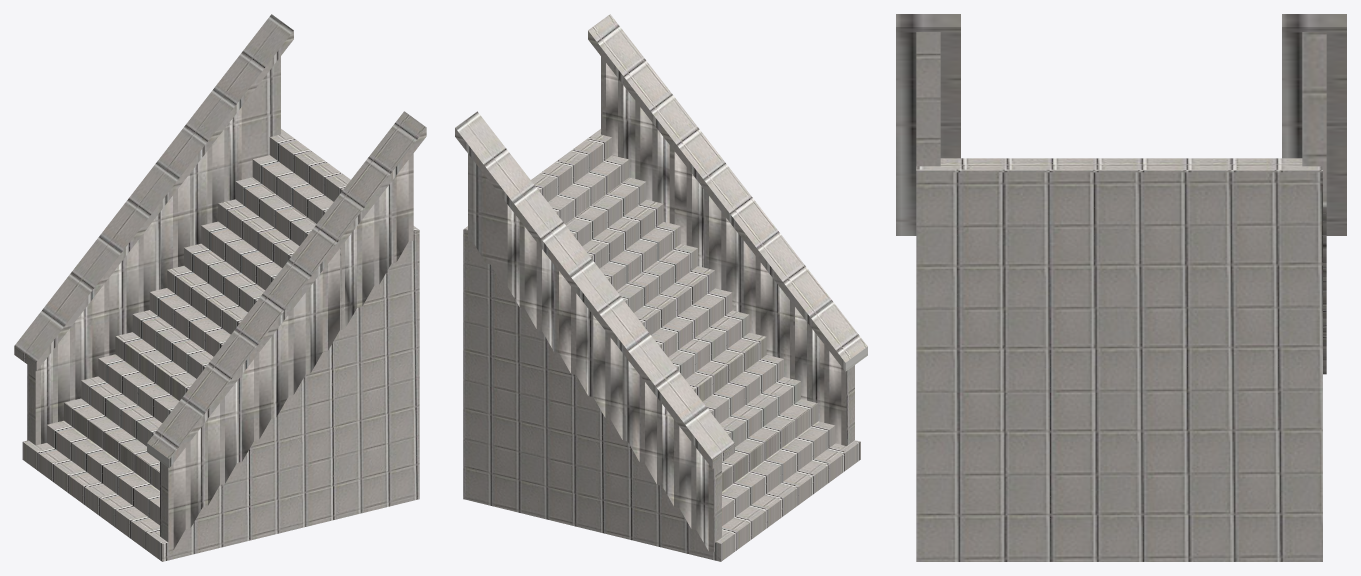
The model's file is gradasabajomonoblock.fbx.
3 renders of one model, left to right at view 1: azimuth 30°, elevation 25°; view 2: azimuth 150°, elevation 25°; view 3: azimuth 270°, elevation 25°, orthographic. The views are drawn at different scales.
Parts seen in each view (by area): view 1: stair_big_02, railing_stair_03_R.001, railing_stair_03_L.001; view 2: stair_big_02, railing_stair_03_L.001, railing_stair_03_R.001; view 3: stair_big_02, railing_stair_03_L.001, railing_stair_03_R.001.
Boxes of the visible parts, bbox=[...] form: stair_big_02: bbox=[22, 129, 419, 561]; railing_stair_03_R.001: bbox=[147, 111, 426, 551]; railing_stair_03_L.001: bbox=[14, 14, 293, 445]; stair_big_02: bbox=[463, 129, 860, 561]; railing_stair_03_L.001: bbox=[455, 111, 734, 552]; railing_stair_03_R.001: bbox=[588, 14, 867, 445]; stair_big_02: bbox=[916, 158, 1322, 561]; railing_stair_03_L.001: bbox=[1282, 14, 1346, 374]; railing_stair_03_R.001: bbox=[896, 14, 960, 235].
Size of the model in its own units: 300 by 420 by 313.
Materials: 1 (1 with a texture image).
